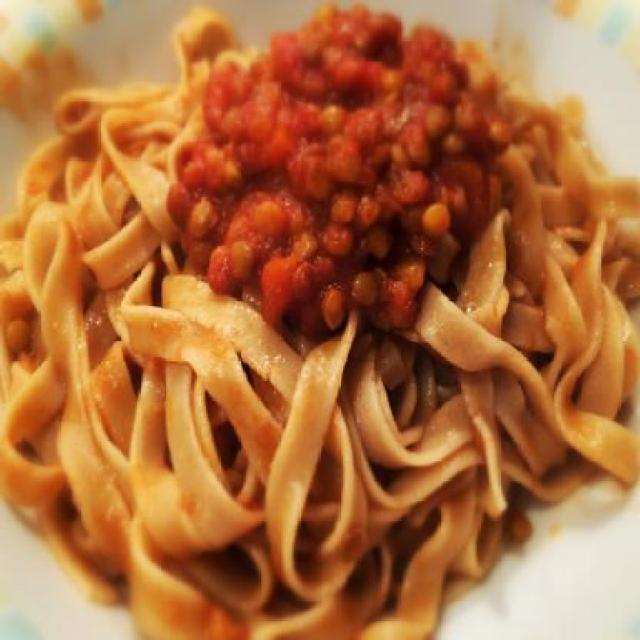Pasta al ragu: (19, 8, 627, 588)
